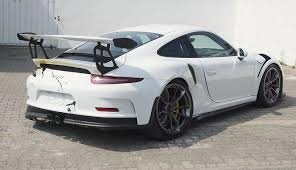Dent: (193, 84, 221, 113), (257, 53, 272, 79)
